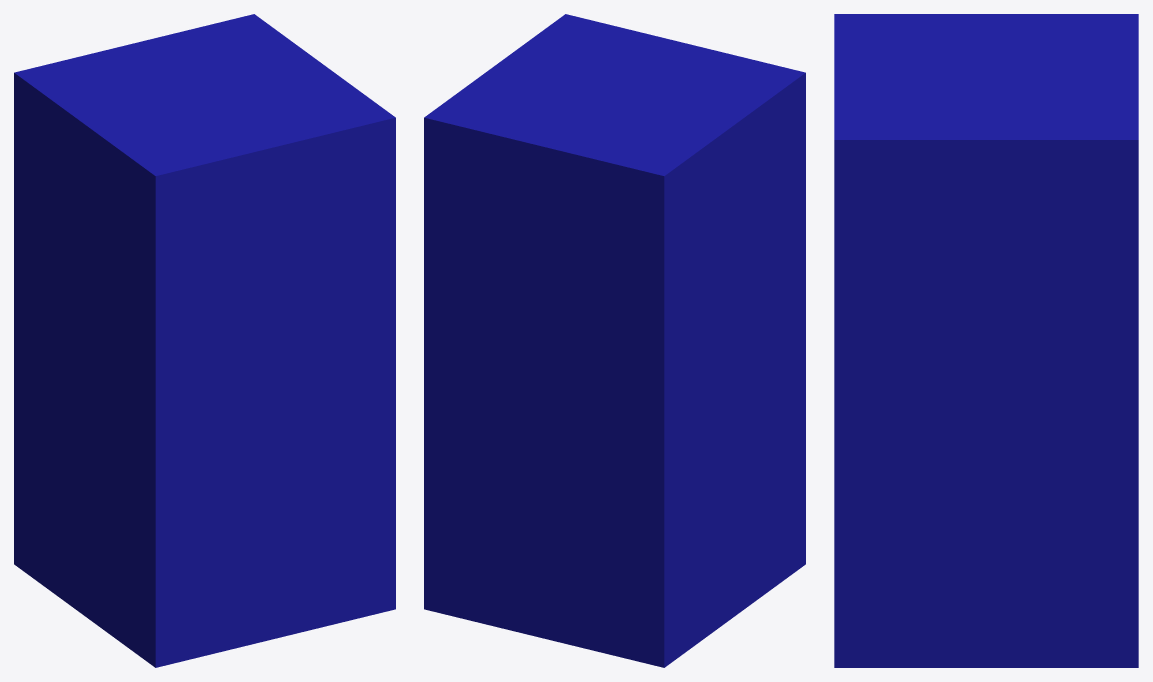
The model's file is Basic_Thigh.FBX.
The picture shows the model from 3 angles, left to right: view 1: azimuth 30°, elevation 25°; view 2: azimuth 150°, elevation 25°; view 3: azimuth 270°, elevation 25°; orthographic projection. The views are drawn at different scales.
Parts seen in each view (by area): view 1: Object003; view 2: Object003; view 3: Object003.
Boxes of the visible parts, x1,y1,x2,y2 form: Object003: [14, 14, 395, 667]; Object003: [424, 14, 805, 667]; Object003: [834, 14, 1138, 667].
Bounding box in the file's own units: 6.77 × 13.24 × 6.91.
